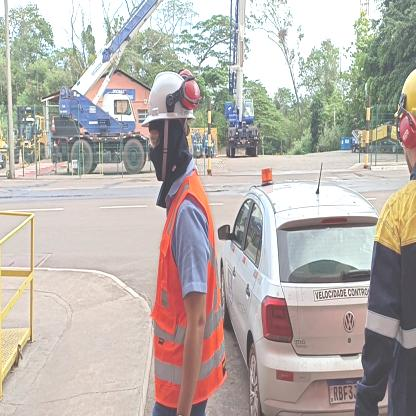Balaclava: (146, 120, 190, 185)
Capacete: (139, 64, 203, 126)
colete: (151, 196, 228, 412)
